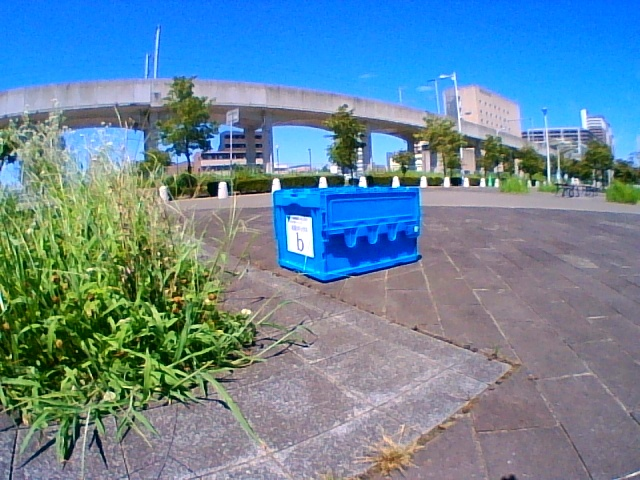blue_box: (278, 192, 416, 261)
tag_b: (290, 220, 311, 253)
